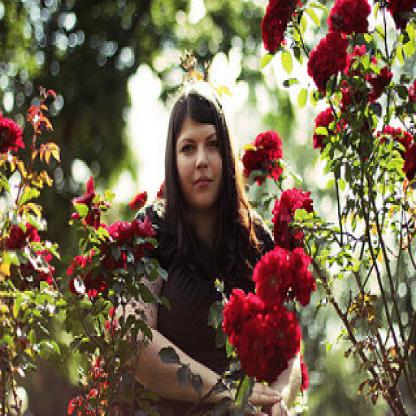Rose-Mawar: (70, 177, 145, 413), (1, 83, 69, 294), (218, 245, 313, 386), (240, 136, 318, 237)
